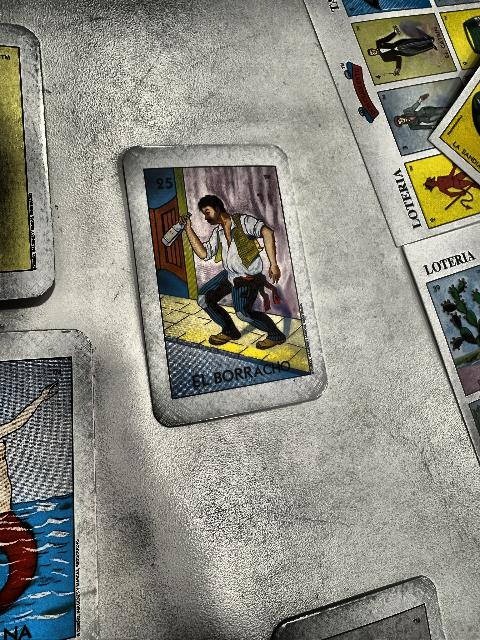El Borracho: (143, 166, 312, 397)
